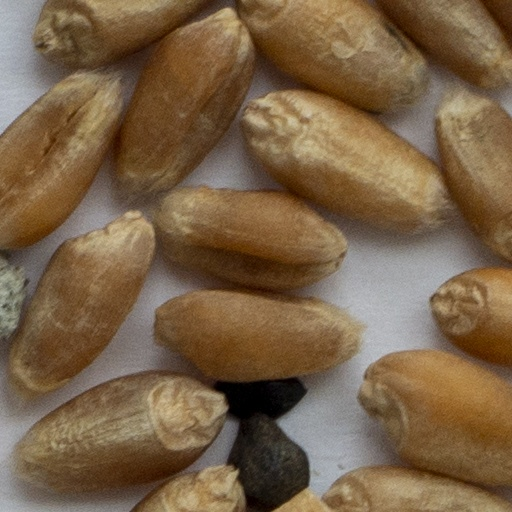Convolvulus-poly: (231, 414, 308, 507)
Fallopia-Convolvulus-poly: (214, 379, 304, 415)
